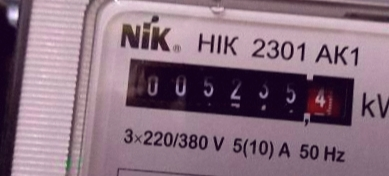0: (144, 70, 162, 97), (173, 70, 189, 96)
2: (228, 73, 244, 99)
3: (256, 73, 272, 99)
4: (313, 81, 330, 108)
5: (283, 76, 300, 104), (200, 71, 217, 98)
screen: (116, 47, 368, 134)
